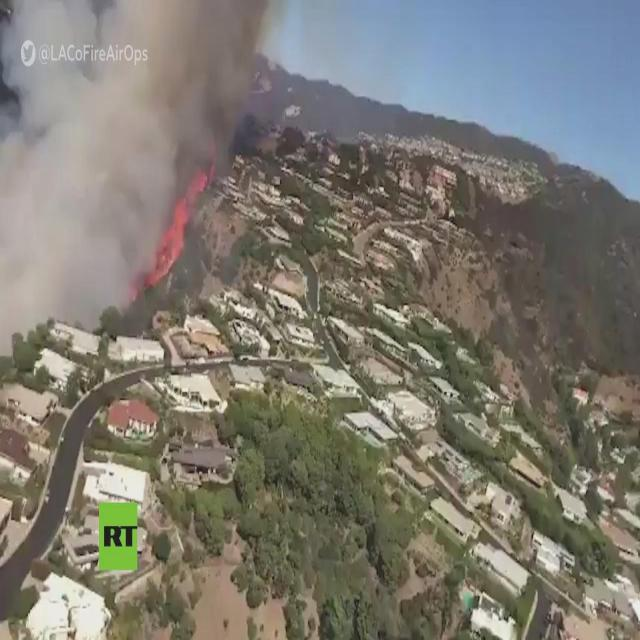Fire: (133, 172, 210, 289)
Smoke: (0, 3, 136, 315), (137, 3, 270, 163)
